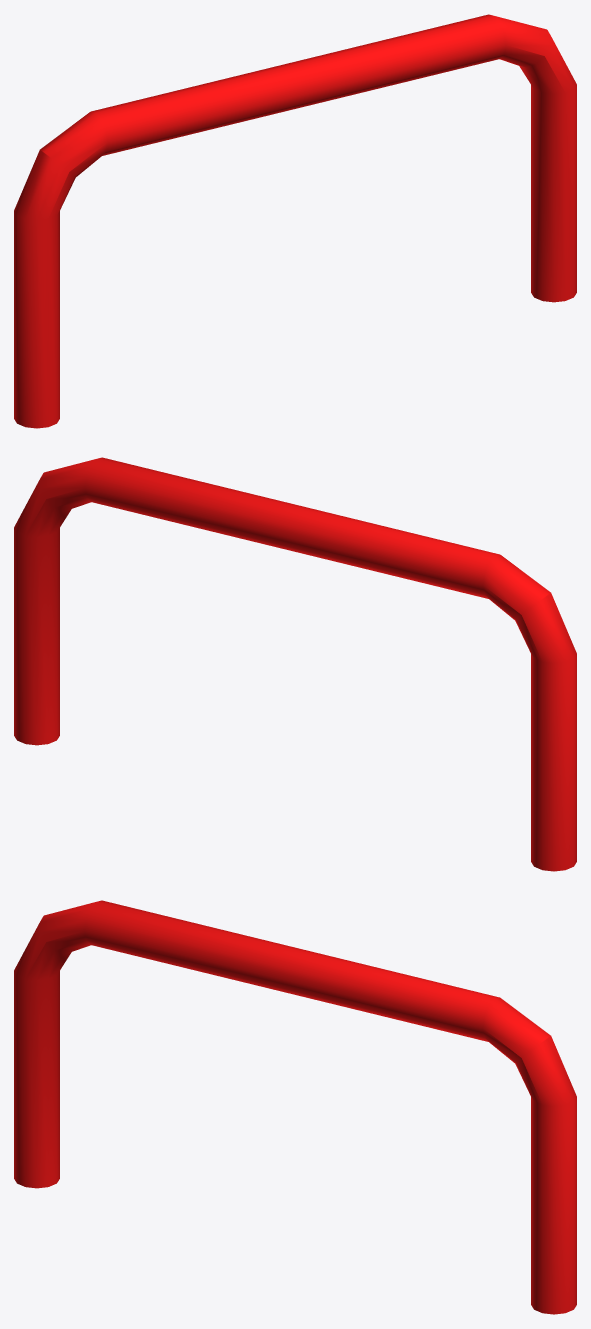
File: Rail2.fbx
The picture shows the model from 3 angles, top to bottom: view 1: azimuth 30°, elevation 25°; view 2: azimuth 150°, elevation 25°; view 3: azimuth 330°, elevation 25°; orthographic projection.
Visible parts, largest first — view 1: Cylinder; view 2: Cylinder; view 3: Cylinder.
Part boxes in pixels (bbox=[...]): Cylinder: bbox=[14, 14, 576, 428]; Cylinder: bbox=[14, 457, 576, 871]; Cylinder: bbox=[14, 900, 576, 1314].
Size of the model in its own units: 280 by 140 by 20.
